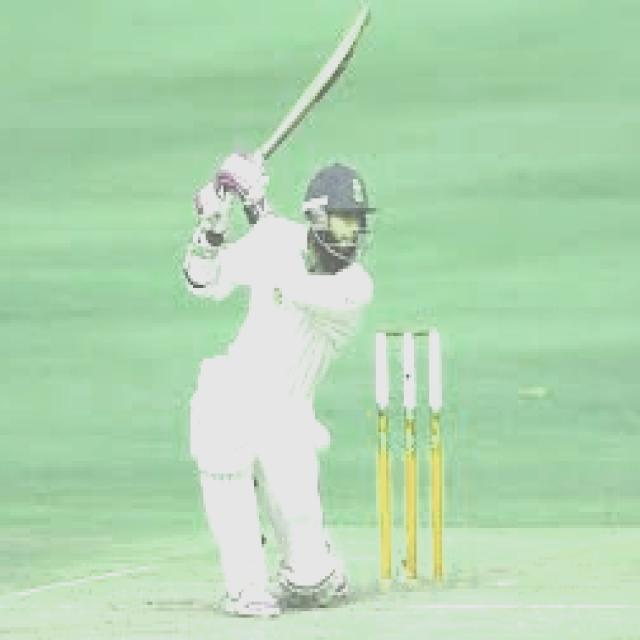toe: (334, 4, 379, 66)
